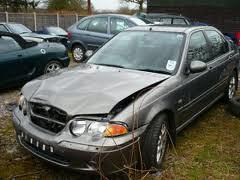bonnet-dent: (23, 67, 165, 111)
